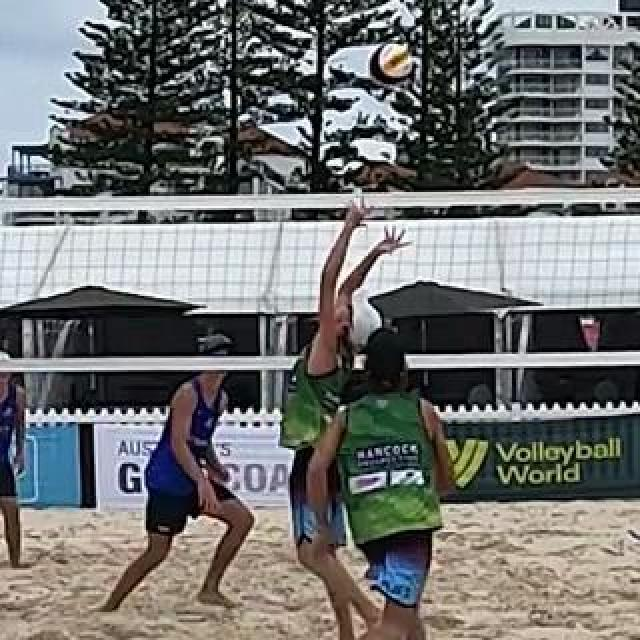volleyball: (369, 43, 411, 85)
